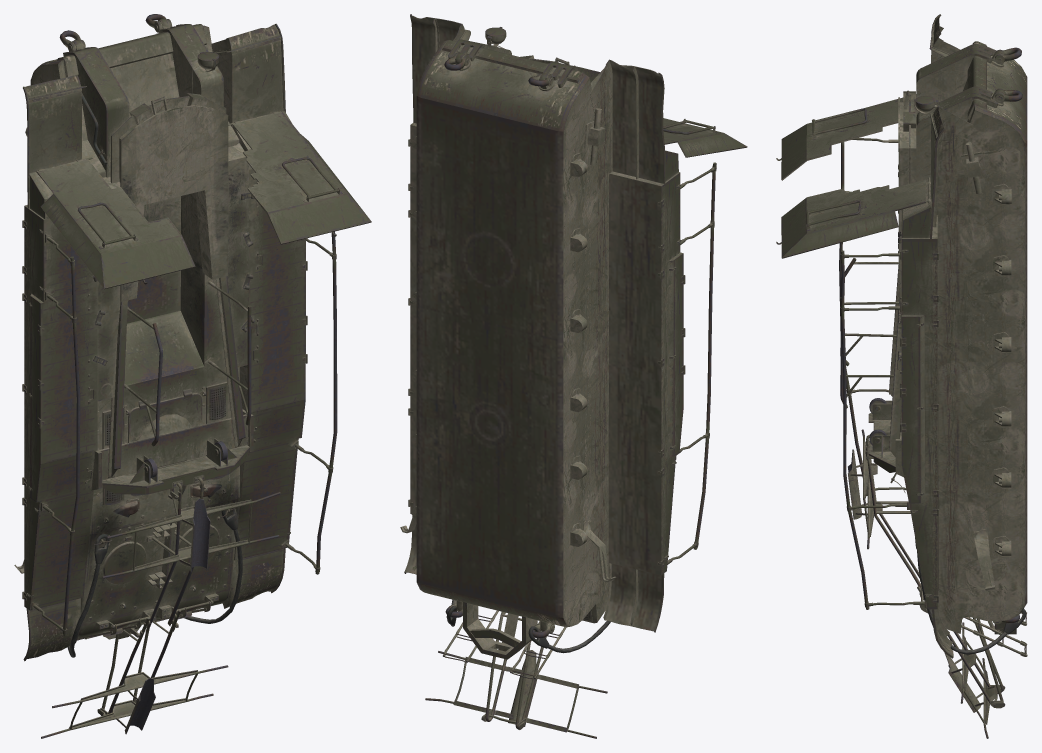
The model's file is Hull.glb.
3 views of the same model, side by side, from view 1: azimuth 30°, elevation 25°; view 2: azimuth 150°, elevation 25°; view 3: azimuth 270°, elevation 25° (orthographic). The views are drawn at different scales.
Visible parts, largest first — view 1: set_0_group_0; view 2: set_0_group_0; view 3: set_0_group_0.
Boxes of the visible parts, bbox=[...] form: set_0_group_0: bbox=[14, 14, 371, 738]; set_0_group_0: bbox=[400, 14, 747, 738]; set_0_group_0: bbox=[776, 14, 1027, 738].
Size of the model in its own units: 3.26 by 8.04 by 2.86.
1 material, 1 textured.
